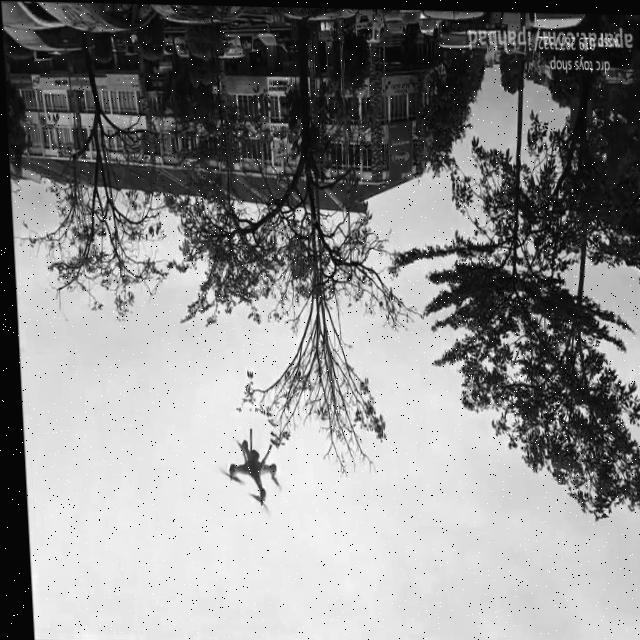drone: (211, 424, 283, 508)
